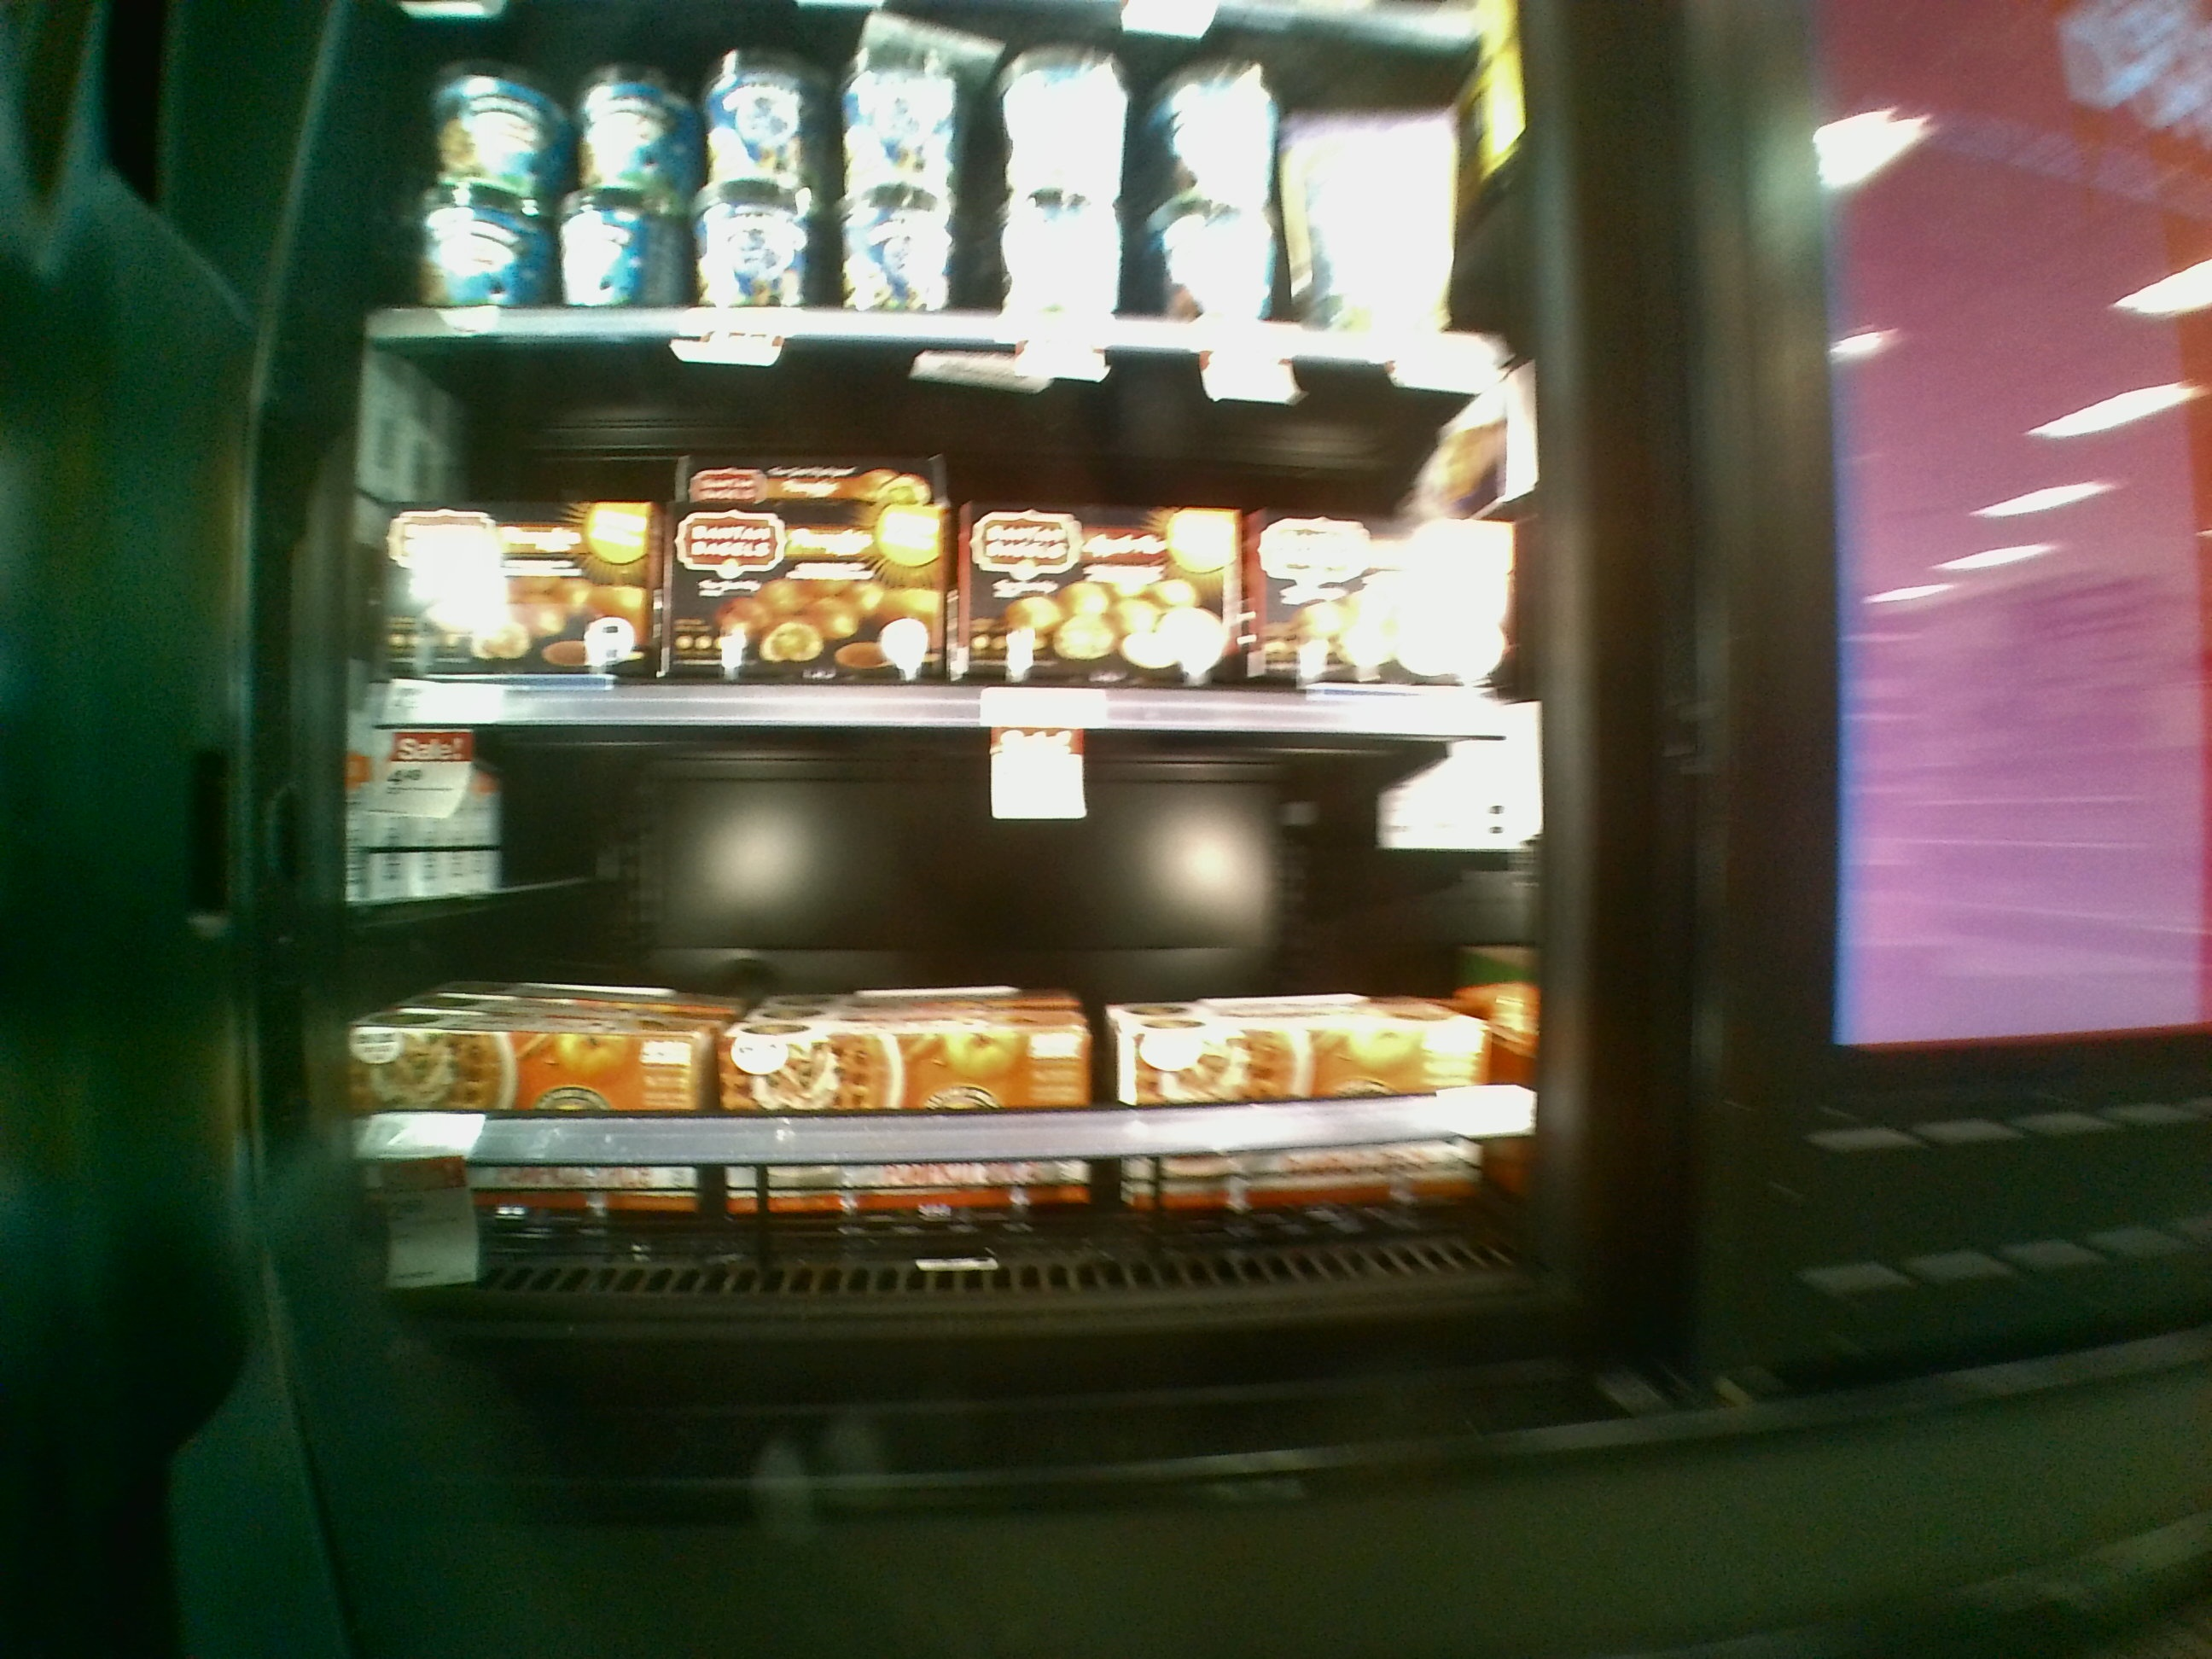shelf: (350, 683, 1554, 1309), (359, 303, 1508, 732)
